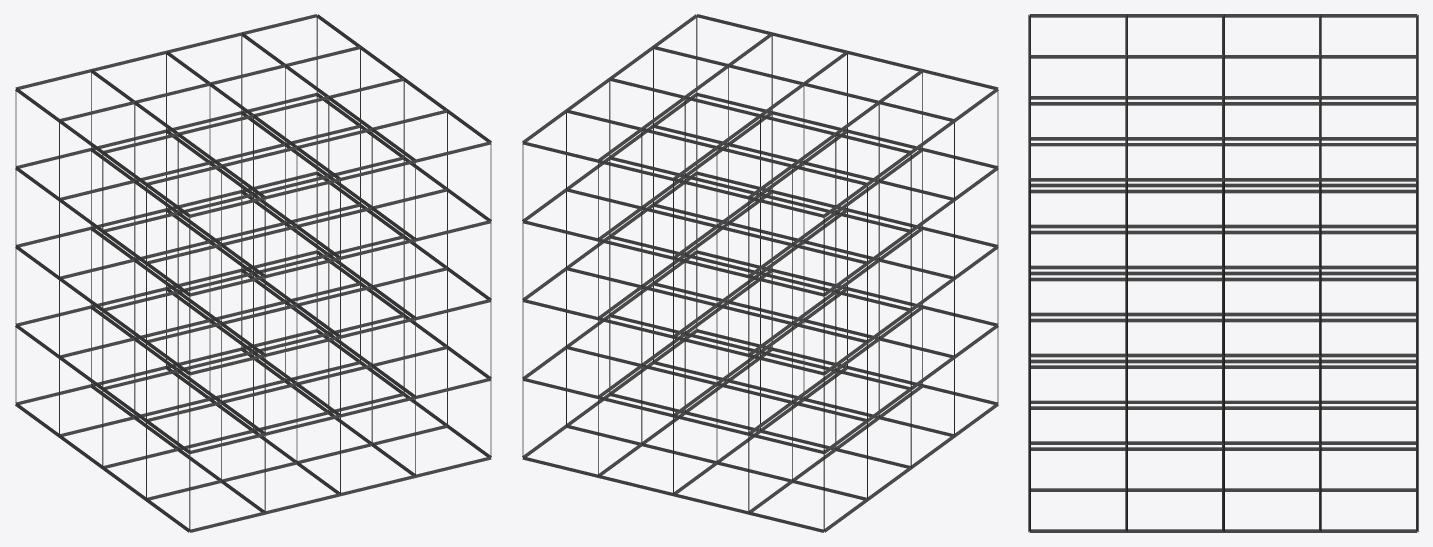
The model's file is 8ce48cc72f5c_1_BG_HomeCubeLattice.glb.
3 renders of one model, left to right at view 1: azimuth 30°, elevation 25°; view 2: azimuth 150°, elevation 25°; view 3: azimuth 270°, elevation 25°, orthographic. The views are drawn at different scales.
Visible parts, largest first — view 1: 8ce48cc72f5c_1_BG_HomeCubeLattice.obj; view 2: 8ce48cc72f5c_1_BG_HomeCubeLattice.obj; view 3: 8ce48cc72f5c_1_BG_HomeCubeLattice.obj.
Part boxes in pixels (x1,y1,x2,y2): 8ce48cc72f5c_1_BG_HomeCubeLattice.obj: (15, 14, 491, 532); 8ce48cc72f5c_1_BG_HomeCubeLattice.obj: (522, 14, 998, 532); 8ce48cc72f5c_1_BG_HomeCubeLattice.obj: (1028, 14, 1418, 532).
Size of the model in its own units: 10.07 by 10.07 by 10.07.
Materials: 1 (1 with a texture image).
